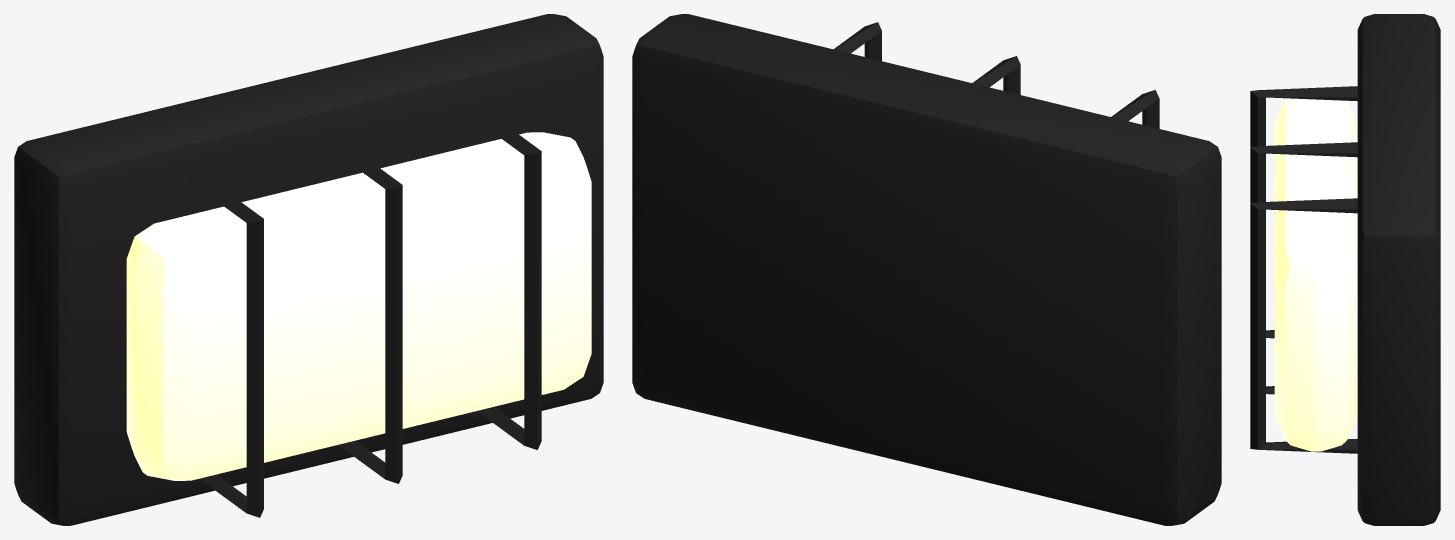
Rendered from bulkhead_light.glb.
3 views of the same model, side by side, from view 1: azimuth 30°, elevation 25°; view 2: azimuth 150°, elevation 25°; view 3: azimuth 270°, elevation 25° (orthographic). The views are drawn at different scales.
Parts seen in each view (by area): view 1: bulkhead_light; view 2: bulkhead_light; view 3: bulkhead_light.
Boxes of the visible parts, x1,y1,x2,y2 form: bulkhead_light: (14, 14, 603, 525); bulkhead_light: (632, 14, 1221, 525); bulkhead_light: (1250, 14, 1440, 525).
Size of the model in its own units: 0.32 by 0.2 by 0.1147.
